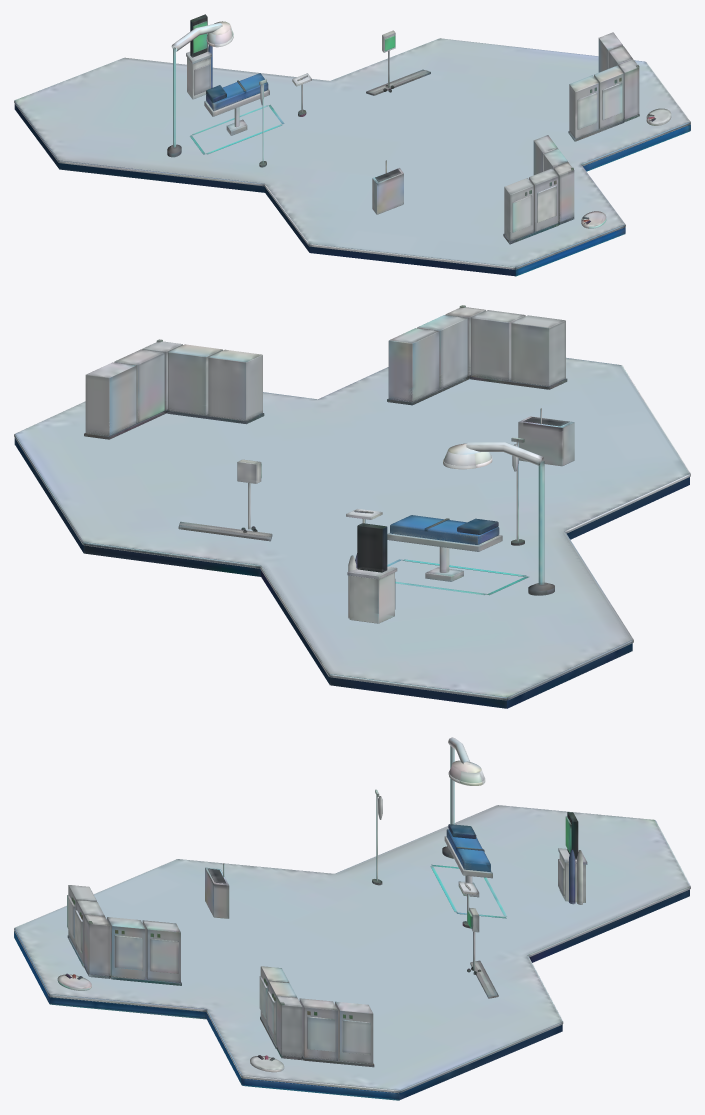
Rendered from field_cm17_01.glb.
The picture shows the model from 3 angles, top to bottom: view 1: azimuth 30°, elevation 25°; view 2: azimuth 150°, elevation 25°; view 3: azimuth 270°, elevation 25°; orthographic projection. The views are drawn at different scales.
Parts seen in each view (by area): view 1: field_cm17_01-runtime-static; view 2: field_cm17_01-runtime-static; view 3: field_cm17_01-runtime-static.
Boxes of the visible parts, <box> form: field_cm17_01-runtime-static: <box>14,14,690,276</box>; field_cm17_01-runtime-static: <box>14,305,690,708</box>; field_cm17_01-runtime-static: <box>14,737,690,1100</box>.
Size of the model in its own units: 14.93 by 3.3 by 14.93.
Materials: 1 (1 with a texture image).
